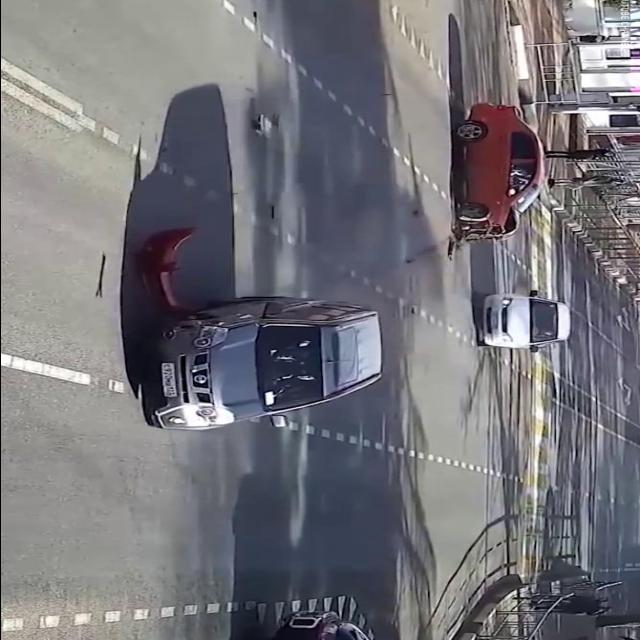accident: (98, 213, 394, 441), (435, 100, 557, 268)
